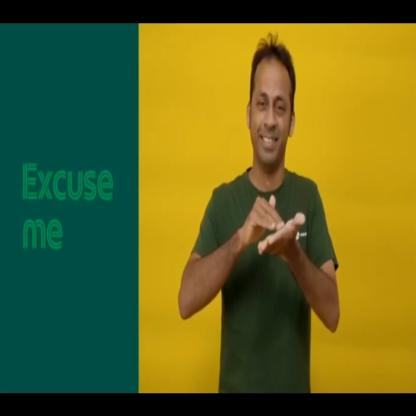ExcuseMe: (178, 40, 341, 393)
